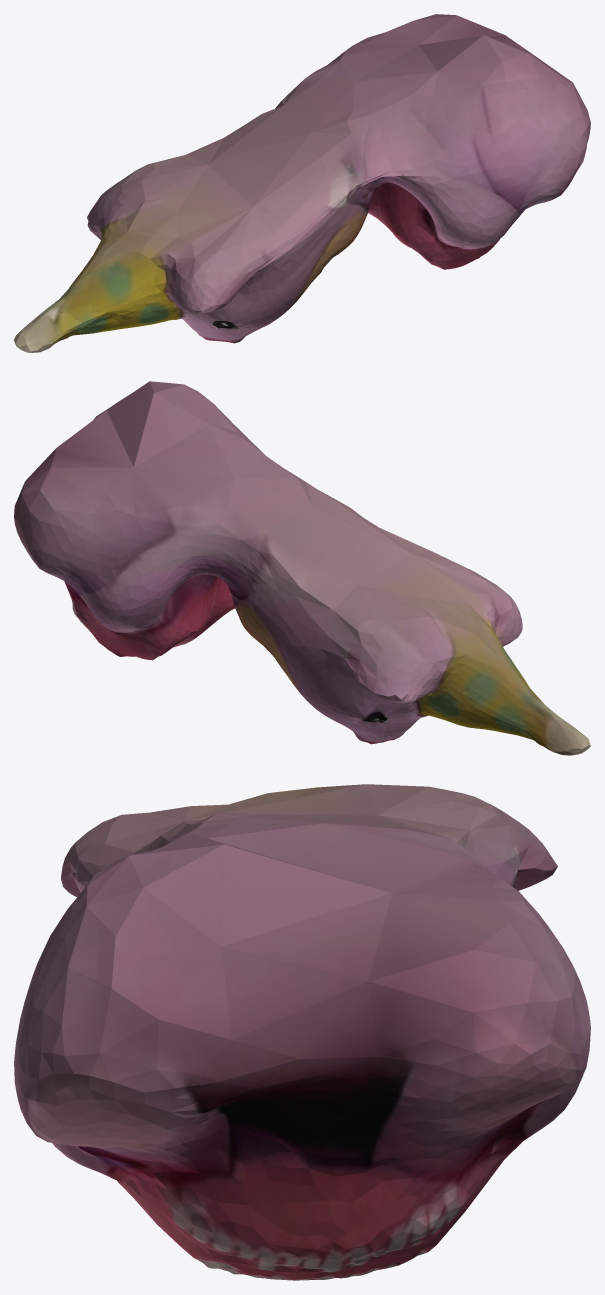
The model's file is Happy Birthday Figurine.glb.
3 renders of one model, top to bottom at view 1: azimuth 30°, elevation 25°; view 2: azimuth 150°, elevation 25°; view 3: azimuth 270°, elevation 25°, orthographic. The views are drawn at different scales.
Bounding box in the file's own units: 0.2977 × 0.1416 × 0.1433.
Materials: 1 (1 with a texture image).
